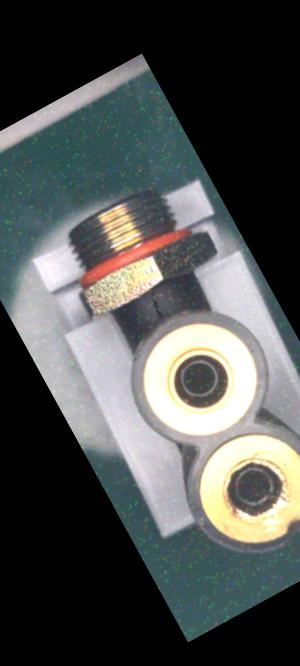bump: (270, 506, 300, 555)
craze: (140, 282, 173, 326)
